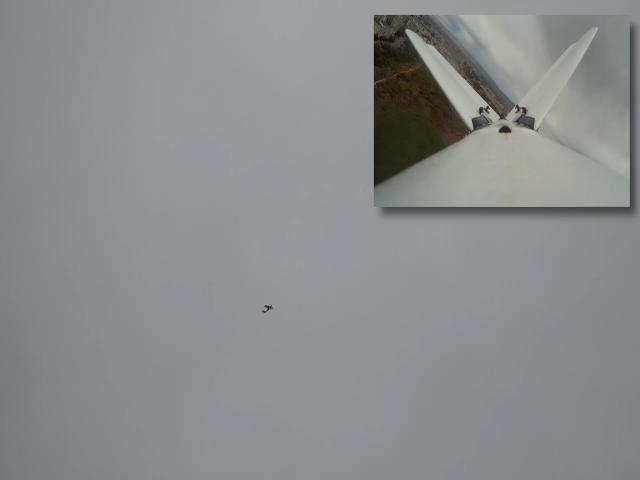plane: (261, 303, 273, 315)
